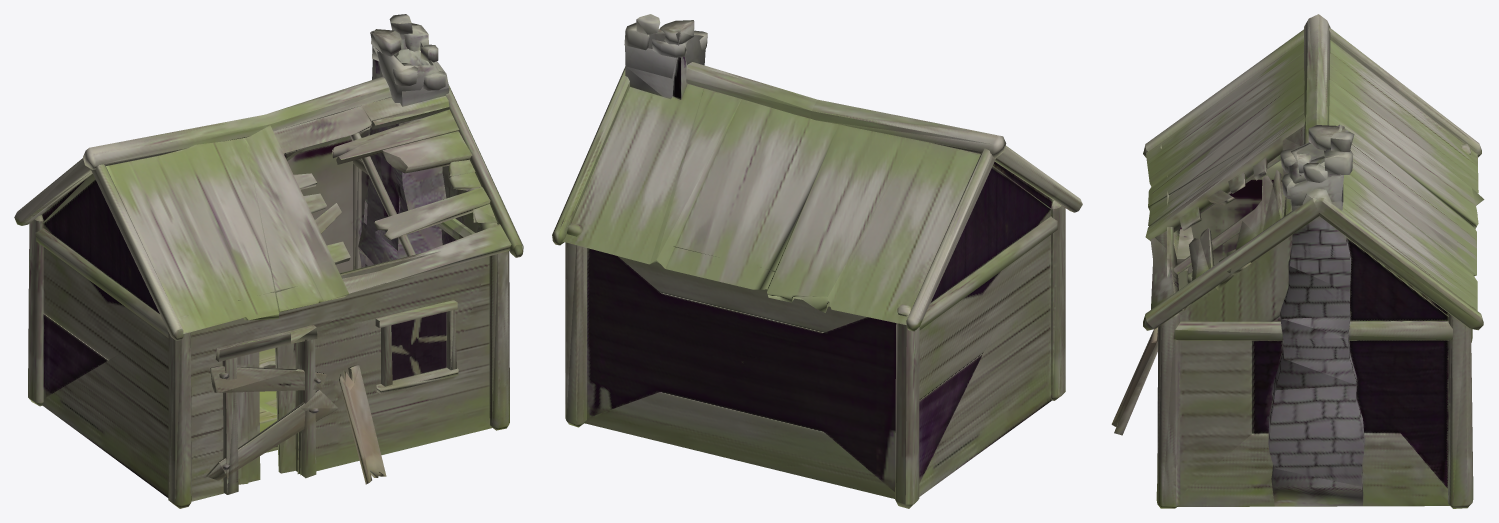
File: ruined_hut.glb
3 views of the same model, side by side, from view 1: azimuth 30°, elevation 25°; view 2: azimuth 150°, elevation 25°; view 3: azimuth 270°, elevation 25° (orthographic). The views are drawn at different scales.
Visible parts, largest first — view 1: mesh_node; view 2: mesh_node; view 3: mesh_node.
Boxes of the visible parts, x1,y1,x2,y2 form: mesh_node: (14,14,523,508); mesh_node: (552,14,1082,508); mesh_node: (1111,14,1484,508).
Size of the model in its own units: 0.9941 by 0.9277 by 0.8574.
Materials: 1 (1 with a texture image).
